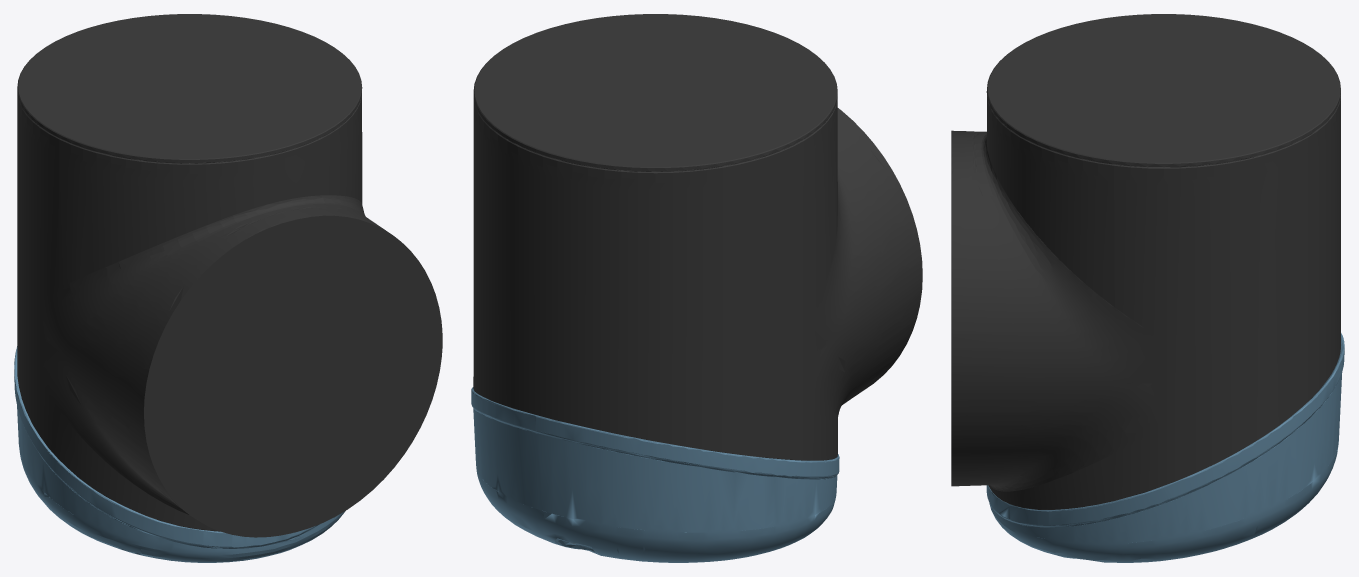
Rendered from wrist1.dae.
3 views of the same model, side by side, from view 1: azimuth 30°, elevation 25°; view 2: azimuth 150°, elevation 25°; view 3: azimuth 270°, elevation 25° (orthographic). The views are drawn at different scales.
Visible parts, largest first — view 1: node-shape0-name, node-shape1-name; view 2: node-shape0-name, node-shape1-name; view 3: node-shape0-name, node-shape1-name.
Part boxes in pixels (x1,y1,x2,y2): node-shape0-name: (17, 14, 442, 537); node-shape1-name: (14, 346, 345, 562); node-shape0-name: (473, 14, 922, 460); node-shape1-name: (471, 387, 839, 562); node-shape0-name: (951, 14, 1340, 509); node-shape1-name: (986, 333, 1344, 562).
Bounding box in the file's own units: 0.091 × 0.0999 × 0.1188.
